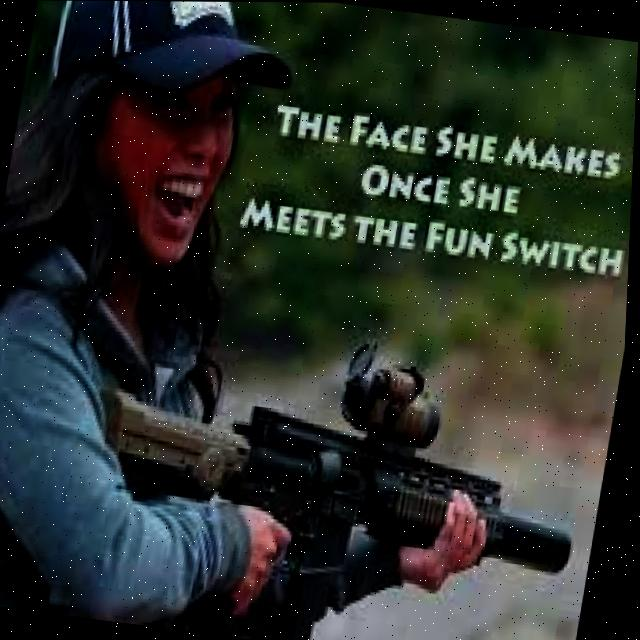firearm: (62, 295, 609, 640)
